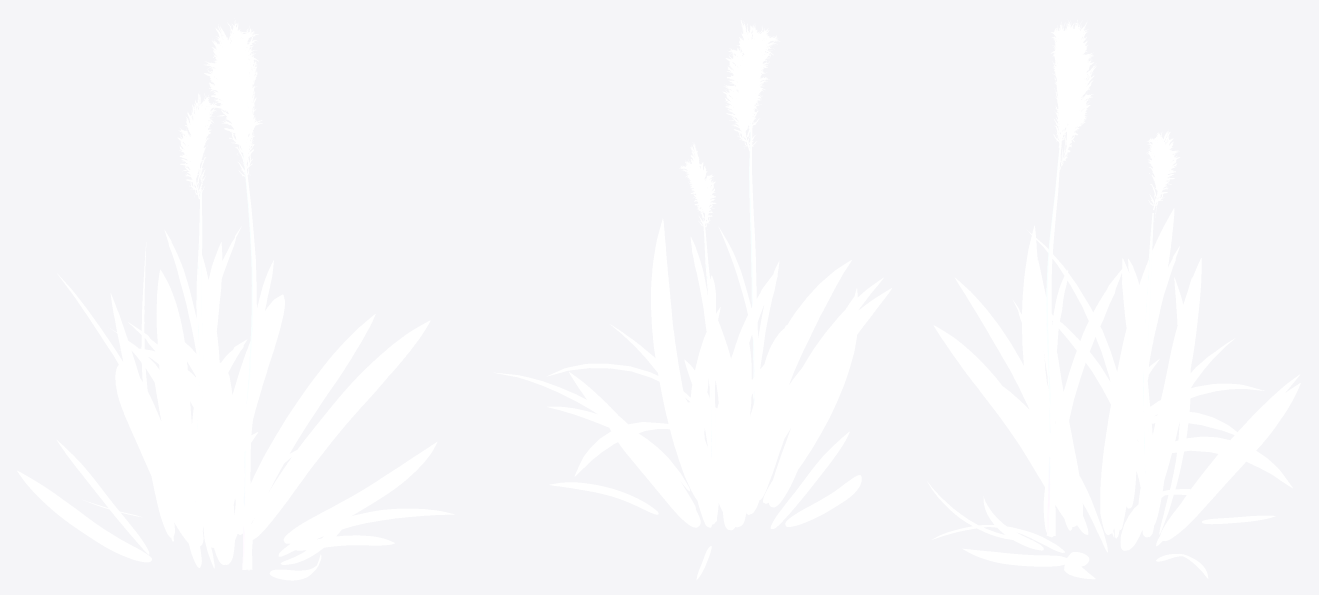
3 renders of one model, left to right at view 1: azimuth 30°, elevation 25°; view 2: azimuth 150°, elevation 25°; view 3: azimuth 270°, elevation 25°, orthographic. The views are drawn at different scales.
Visible parts, largest first — view 1: SM_SwampGrass_03_LOD0; view 2: SM_SwampGrass_03_LOD0; view 3: SM_SwampGrass_03_LOD0.
Boxes of the visible parts, x1,y1,x2,y2 form: SM_SwampGrass_03_LOD0: (17, 18, 454, 580); SM_SwampGrass_03_LOD0: (494, 20, 891, 579); SM_SwampGrass_03_LOD0: (927, 20, 1300, 579).
Size of the model in its own units: 1.08 by 1.44 by 0.9425.
1 material, 1 textured.
